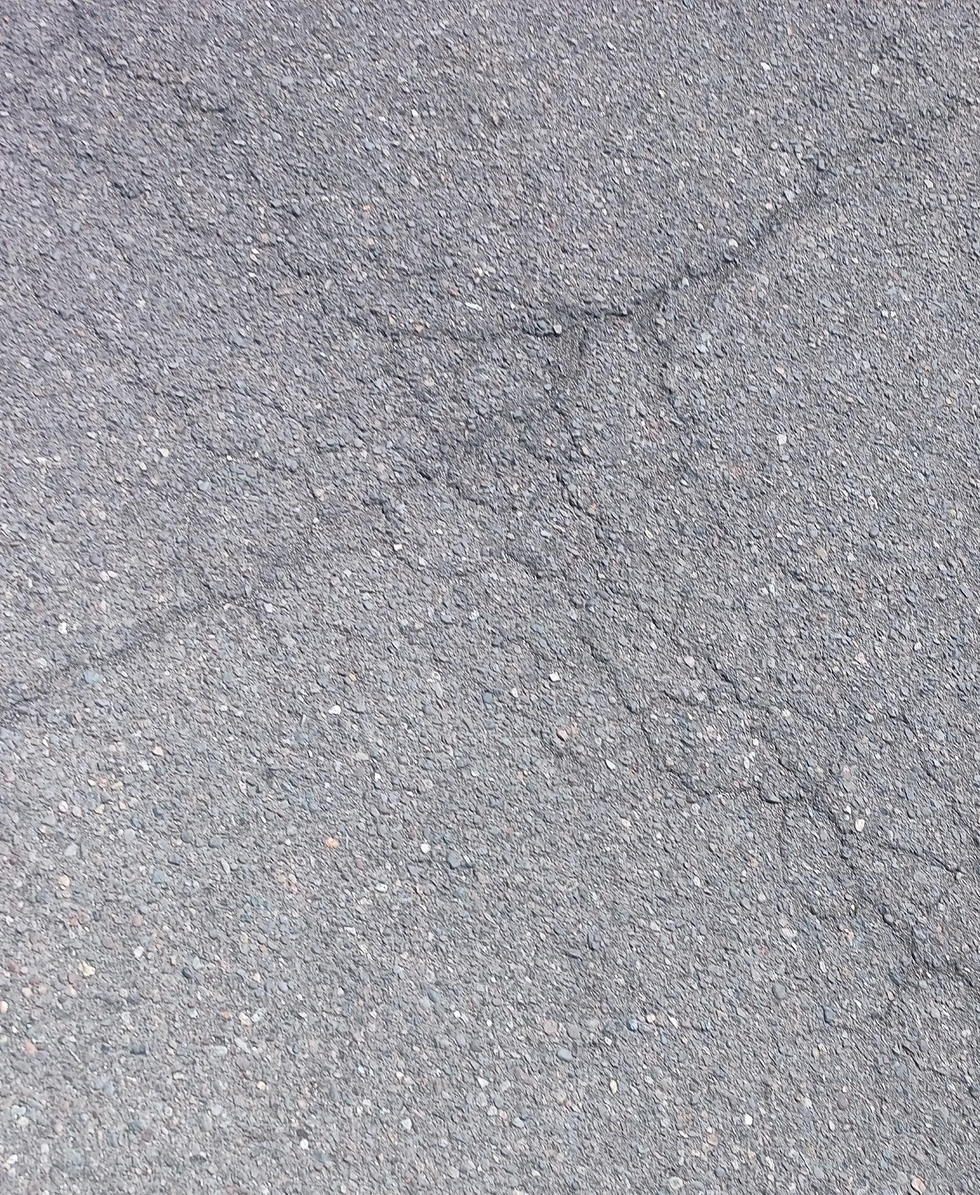GRIETA: (714, 93, 980, 276), (0, 602, 202, 732)
PIEL DE COCODRILO: (152, 232, 980, 1068), (7, 2, 300, 378)
